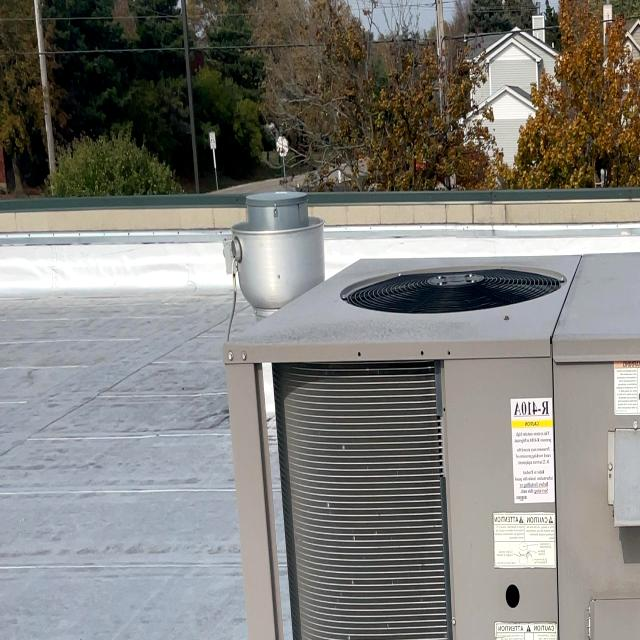GRAVITY-VENT: (249, 227, 639, 640), (218, 178, 330, 339)
